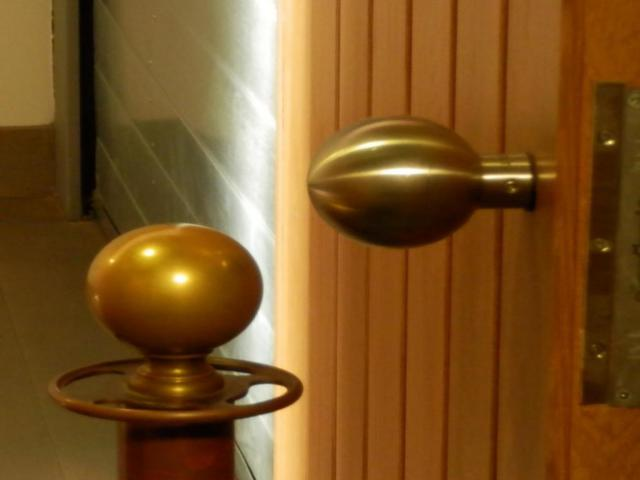Door-handle: (307, 114, 535, 250)
